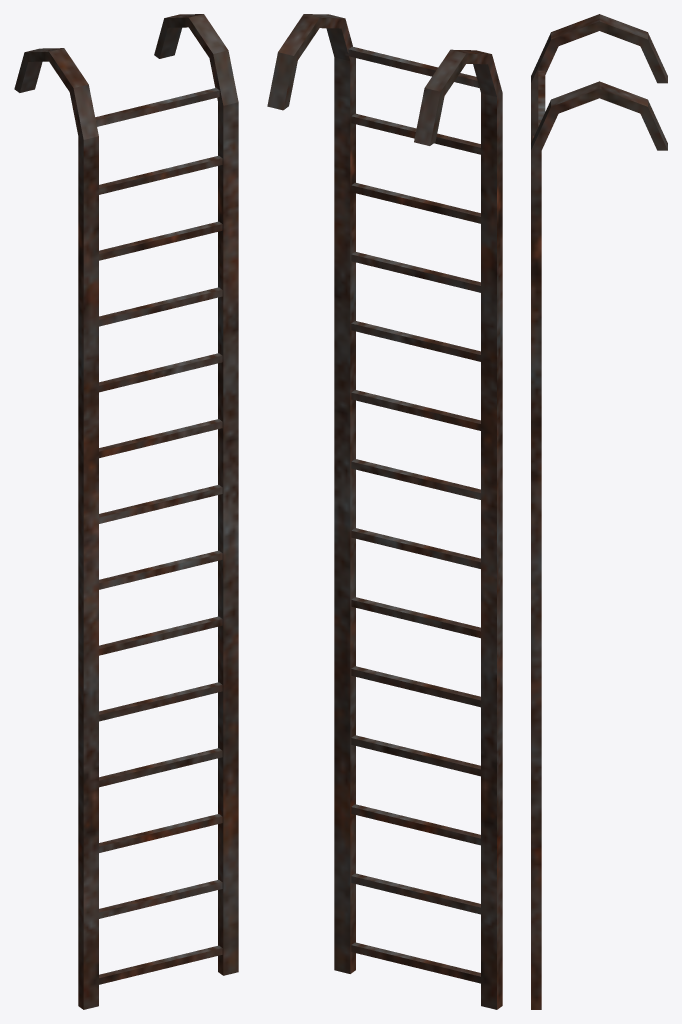
Rendered from stairs2.glb.
3 renders of one model, left to right at view 1: azimuth 30°, elevation 25°; view 2: azimuth 150°, elevation 25°; view 3: azimuth 270°, elevation 25°, orthographic. The views are drawn at different scales.
Visible parts, largest first — view 1: Props_Ladder; view 2: Props_Ladder; view 3: Props_Ladder.
Boxes of the visible parts, x1,y1,x2,y2 form: Props_Ladder: [14, 14, 238, 1009]; Props_Ladder: [267, 14, 502, 1009]; Props_Ladder: [531, 14, 667, 1009].
Bounding box in the file's own units: 1.12 × 6.42 × 0.8651.
Materials: 1 (1 with a texture image).
